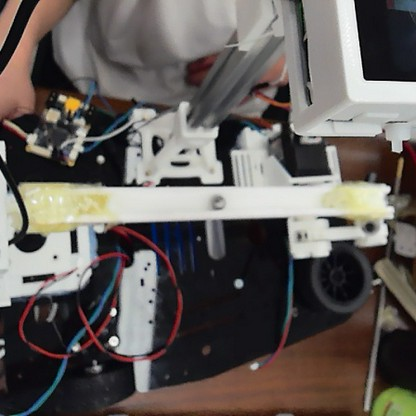ironball: (206, 191, 227, 210)
